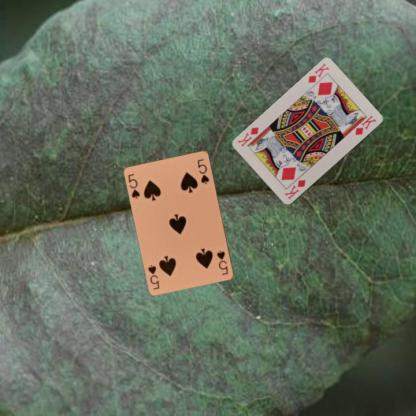5s: (126, 171, 142, 200), (214, 248, 230, 276)
Kd: (282, 177, 307, 201), (305, 61, 331, 84)
